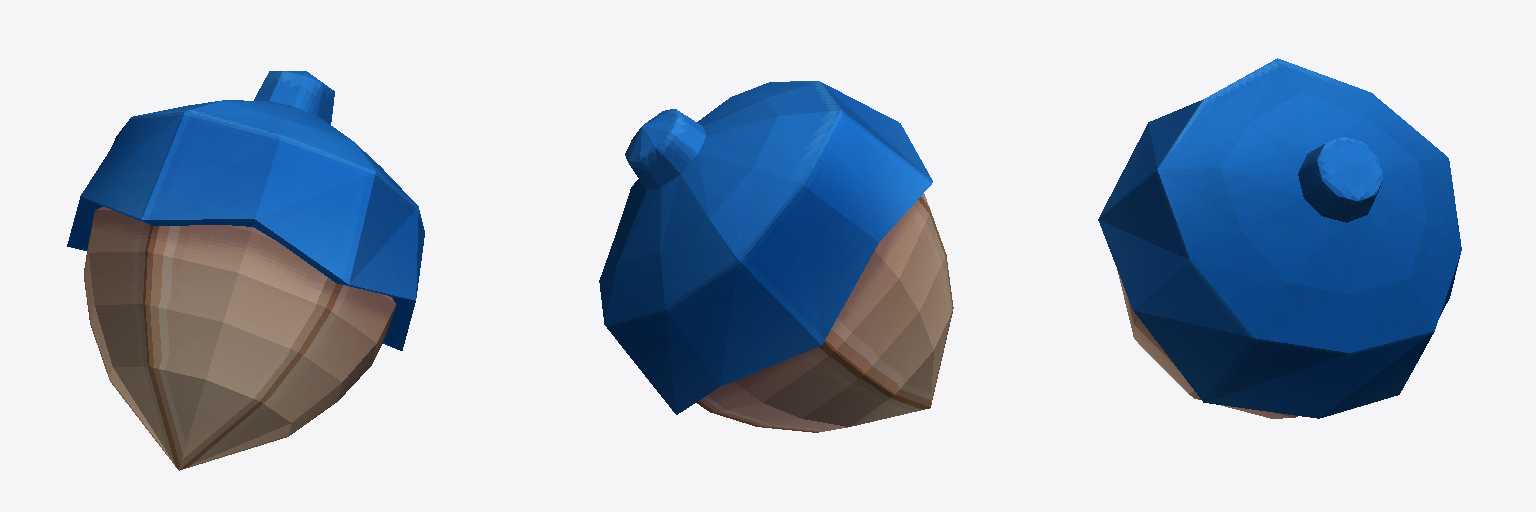
3 views of the same model, side by side, from view 1: azimuth 30°, elevation 25°; view 2: azimuth 150°, elevation 25°; view 3: azimuth 270°, elevation 25° (orthographic).
Visible parts, largest first — view 1: kago; view 2: kago; view 3: kago.
Boxes of the visible parts, box(x1,y1,x2,y2) form: kago: box(67, 71, 424, 470); kago: box(599, 81, 953, 432); kago: box(1098, 58, 1461, 418).
Size of the model in its own units: 1.36 by 1.35 by 1.37.
1 materials, 1 textured.